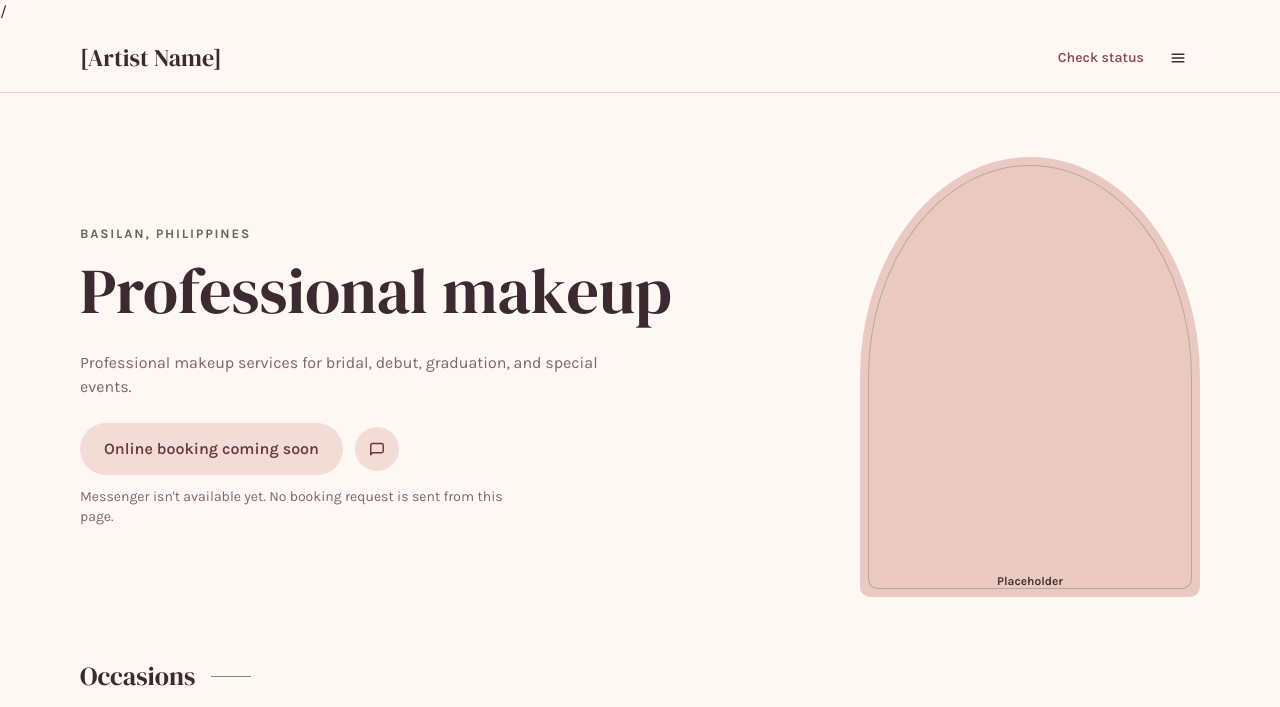
Test: public homepage › opens and closes the mobile menu from the button and keyboard
The image size is (1280, 707).
Click the button named "Open menu": click(1178, 58) [1156,36,1200,80]
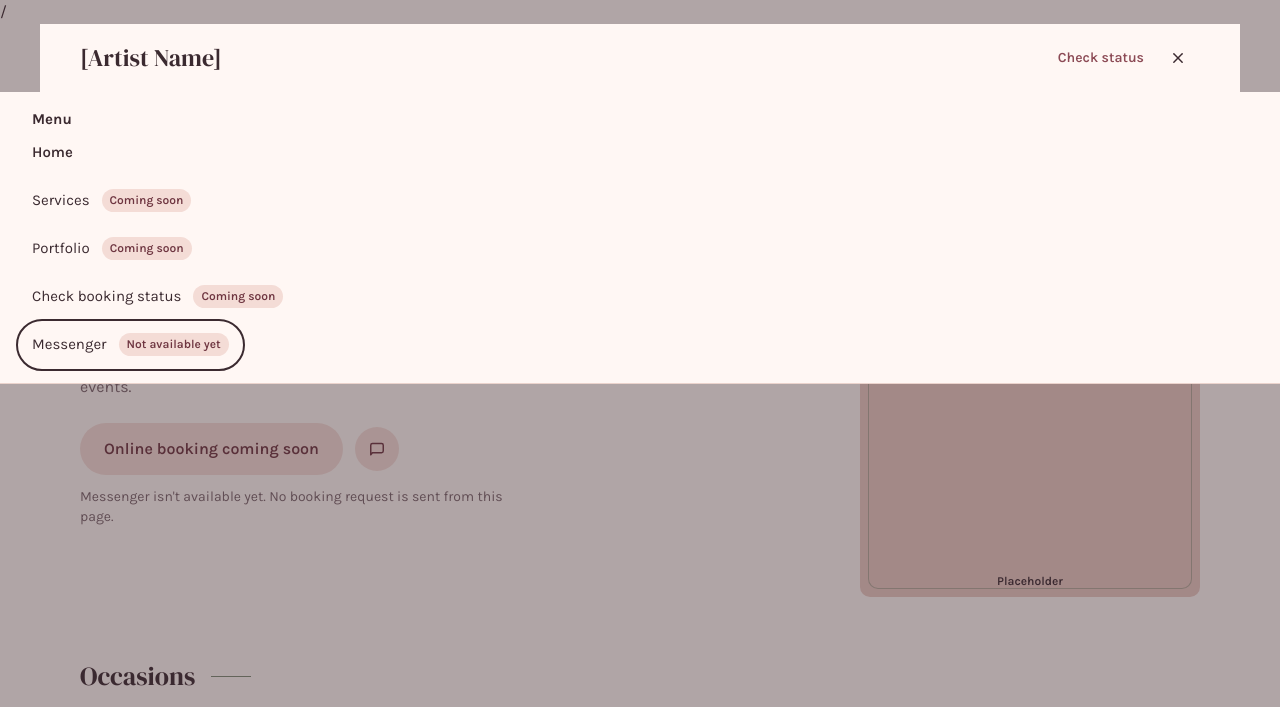
Result: the button named "Open menu" is expanded at [1156,36,1200,80]
Result: the link "Home" is shown at [32,143,73,161]
Press Tab
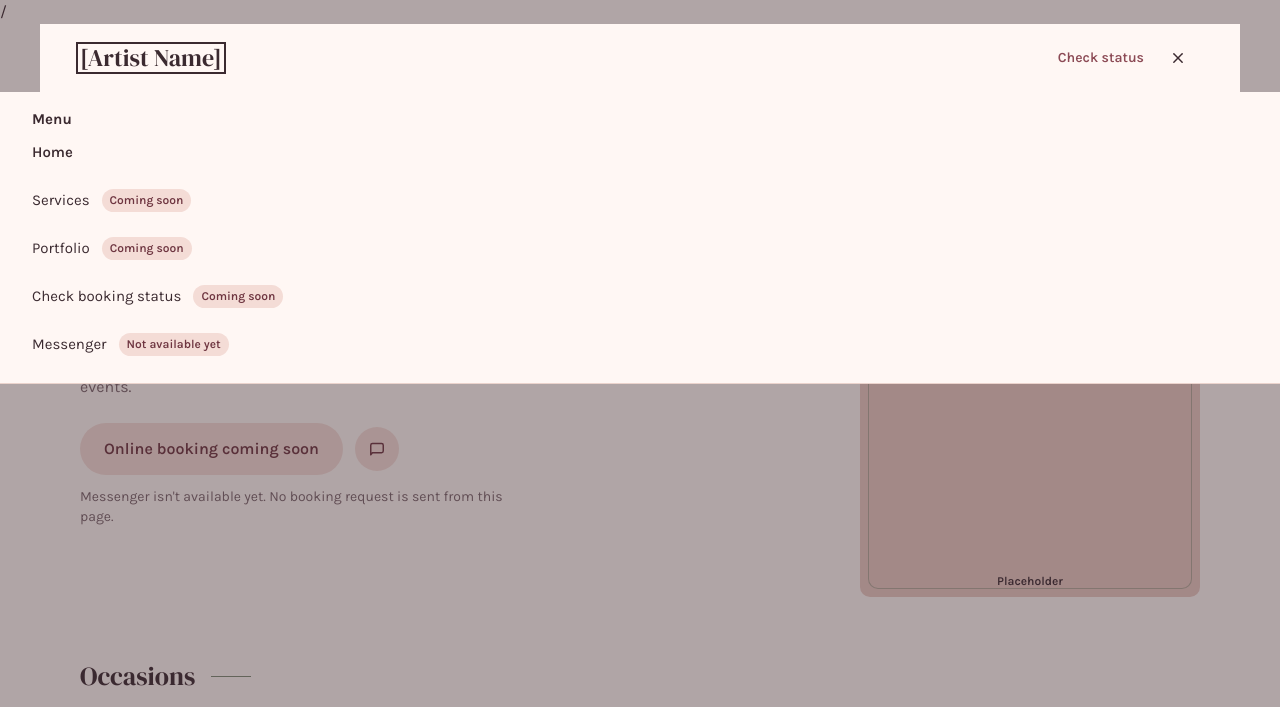
Press Escape
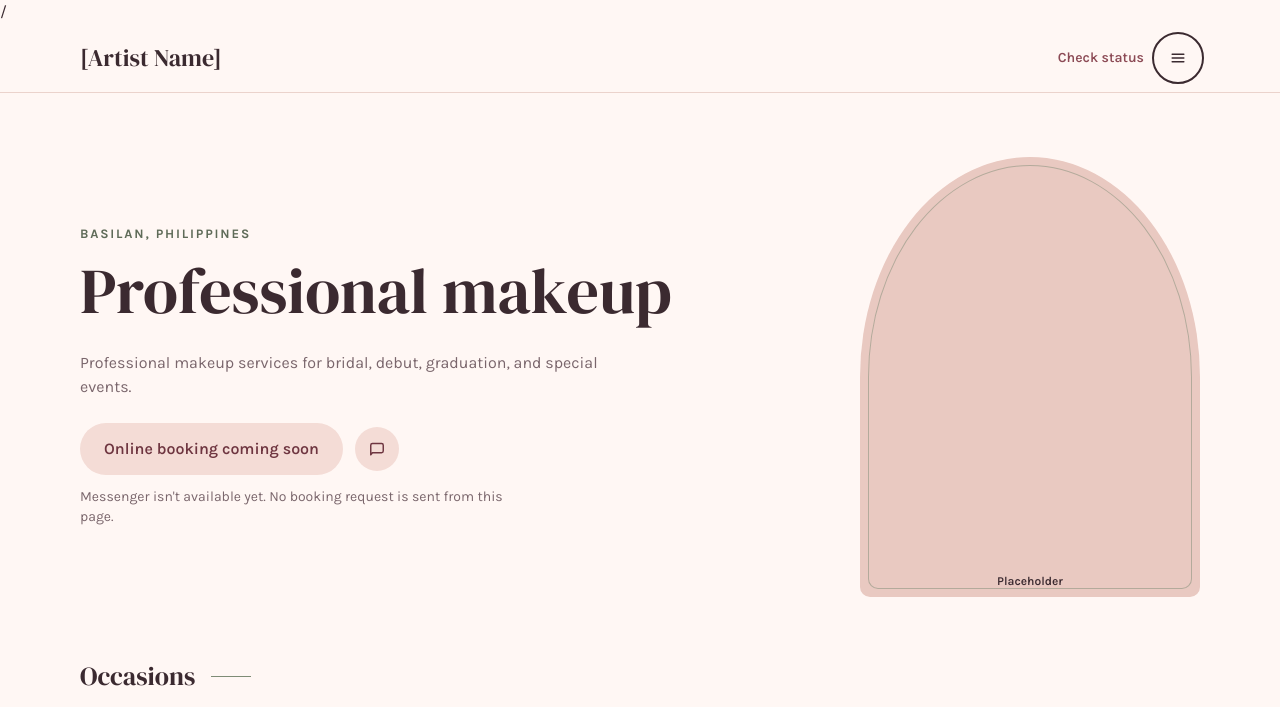
Result: the text "Menu" is gone
